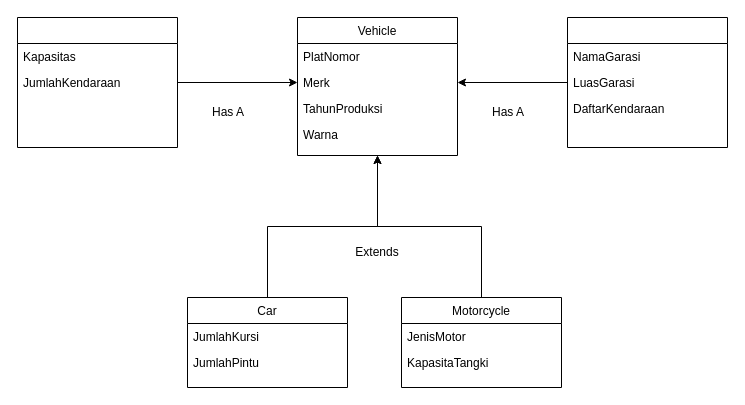
This 745x405 diagram has some shape labels left out. Here are the shapes that lost their labels. From the top down, the box of each, then its label:
(16, 16, 178, 148): ParkingLot
(566, 16, 728, 148): Garage
